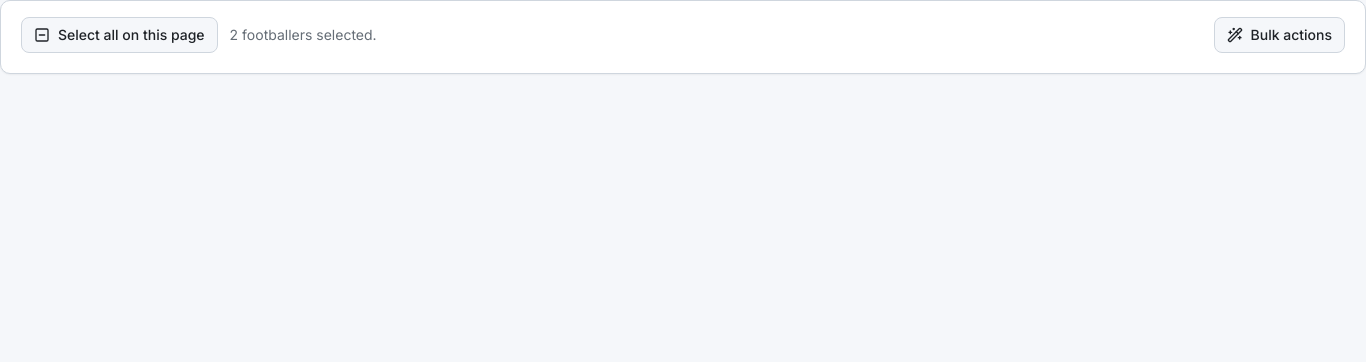
Test case: BulkUpdateToolbar › does not allow Apply until both rows AND fields are picked
Click the button "Bulk actions" at (1279,35), box [1214,17,1345,53]
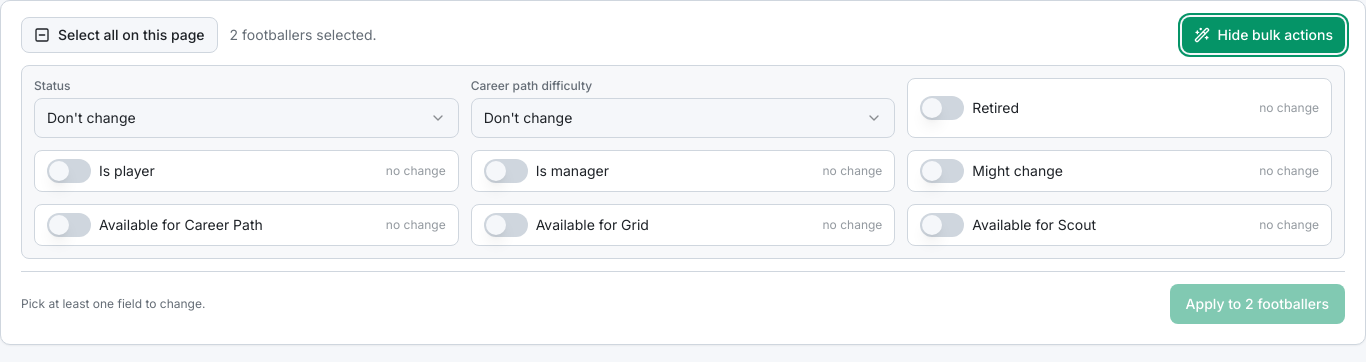
Expected: the button "Apply to 2 footballers" is disabled, [1170,284,1345,324]
